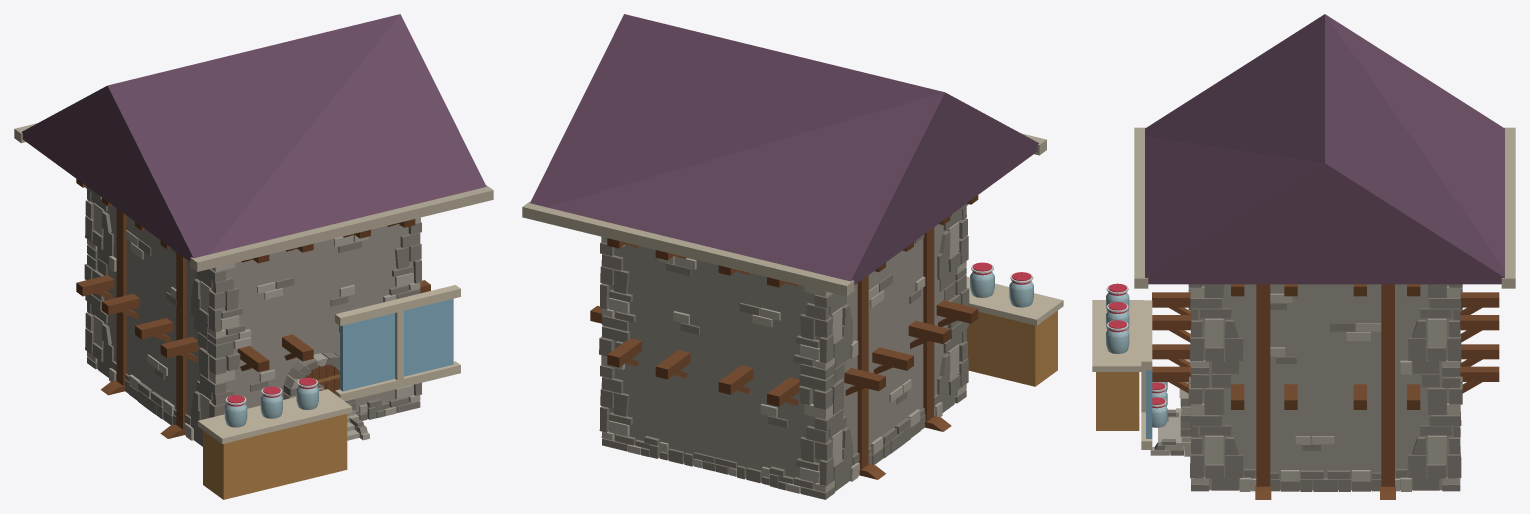
The model's file is preserves.glb.
3 renders of one model, left to right at view 1: azimuth 30°, elevation 25°; view 2: azimuth 150°, elevation 25°; view 3: azimuth 270°, elevation 25°, orthographic. The views are drawn at different scales.
Visible parts, largest first — view 1: building-preserves, building-preserves-far; view 2: building-preserves, building-preserves-far; view 3: building-preserves, building-preserves-far.
Part boxes in pixels (x1,y1,x2,y2): building-preserves: [14, 14, 493, 499]; building-preserves-far: [77, 181, 419, 438]; building-preserves: [522, 14, 1063, 499]; building-preserves-far: [594, 205, 985, 481]; building-preserves: [1092, 14, 1515, 499]; building-preserves-far: [1110, 284, 1492, 491].
Bounding box in the file's own units: 4.55 × 4.93 × 5.39.
